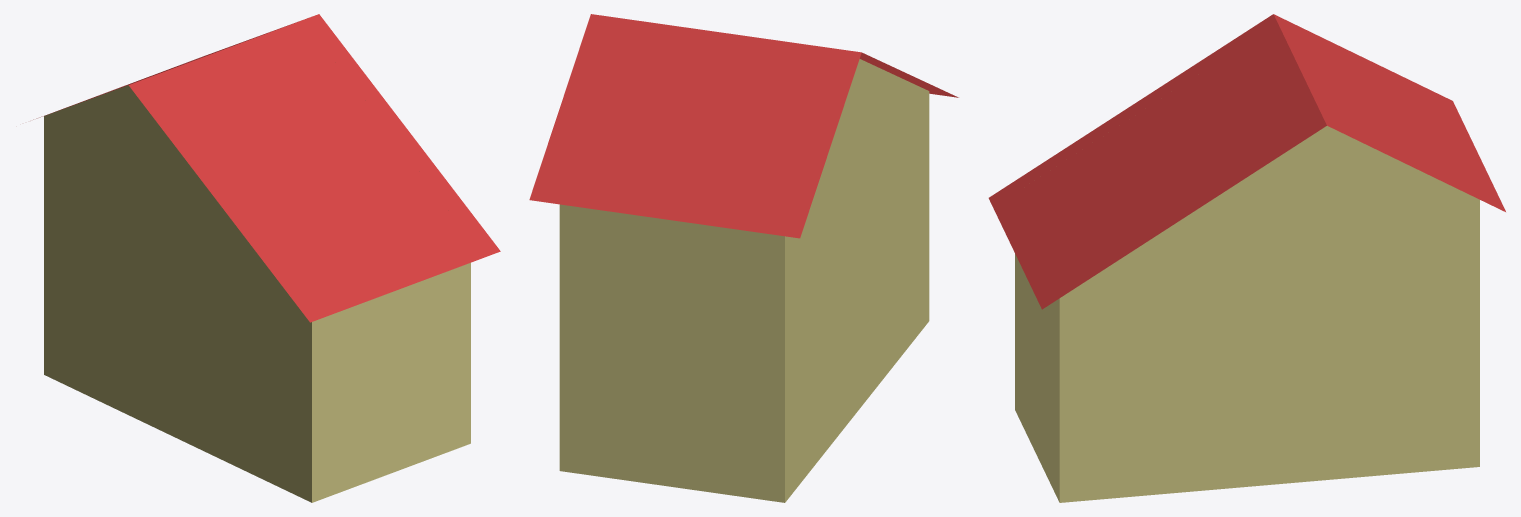
The picture shows the model from 3 angles, left to right: view 1: azimuth 30°, elevation 25°; view 2: azimuth 150°, elevation 25°; view 3: azimuth 270°, elevation 25°; orthographic projection. The views are drawn at different scales.
Bounding box in the file's own units: 7.96 × 11.5 × 8.92.
